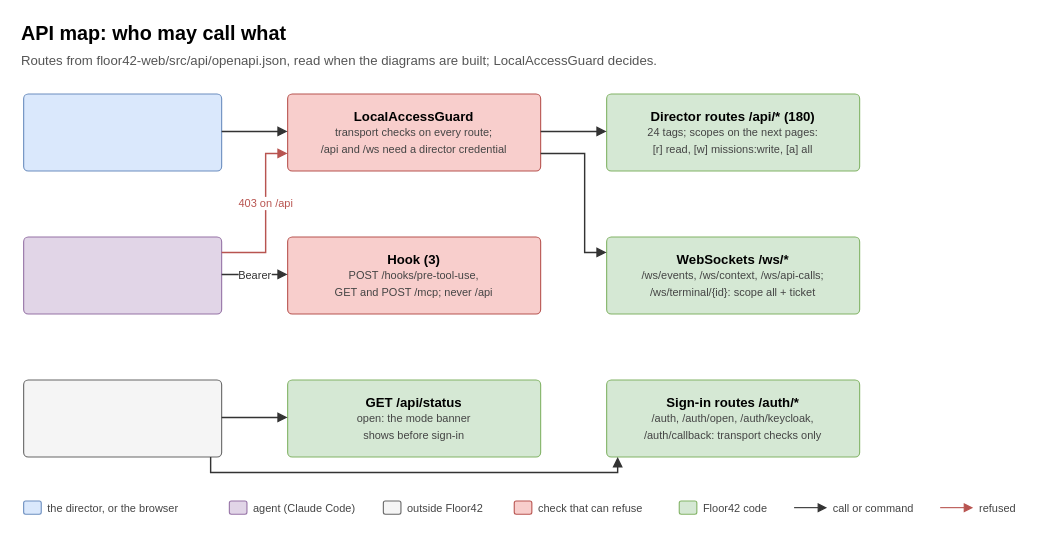
The diagram is 1047 pixels wide and 537 high, and some of its shapes have lost their labels. The box of each missing label's shape, as (x1, y1, x2, y2) in pixels:
Agent session its own token (Bearer): (23, 236, 222, 314)
Anyone on the machine no credential: (23, 379, 222, 457)
Director cookie floor42_session, or a script token (Bearer): (23, 93, 222, 171)
